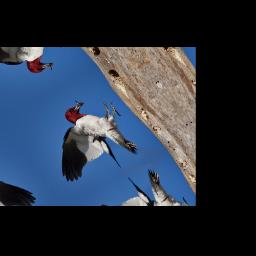Woodpecker: (27, 87, 150, 193)
